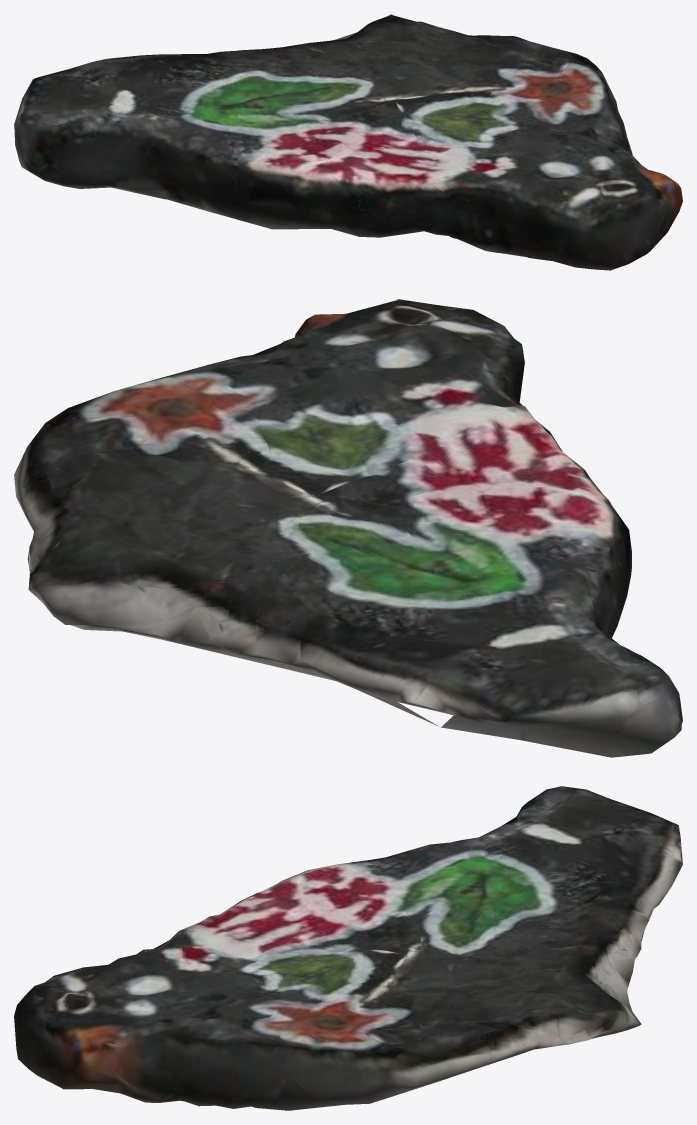
Rendered from hall.glb.
The picture shows the model from 3 angles, top to bottom: view 1: azimuth 30°, elevation 25°; view 2: azimuth 150°, elevation 25°; view 3: azimuth 270°, elevation 25°; orthographic projection. The views are drawn at different scales.
Size of the model in its own units: 0.5658 by 0.0834 by 0.5674.
Materials: 1 (1 with a texture image).
